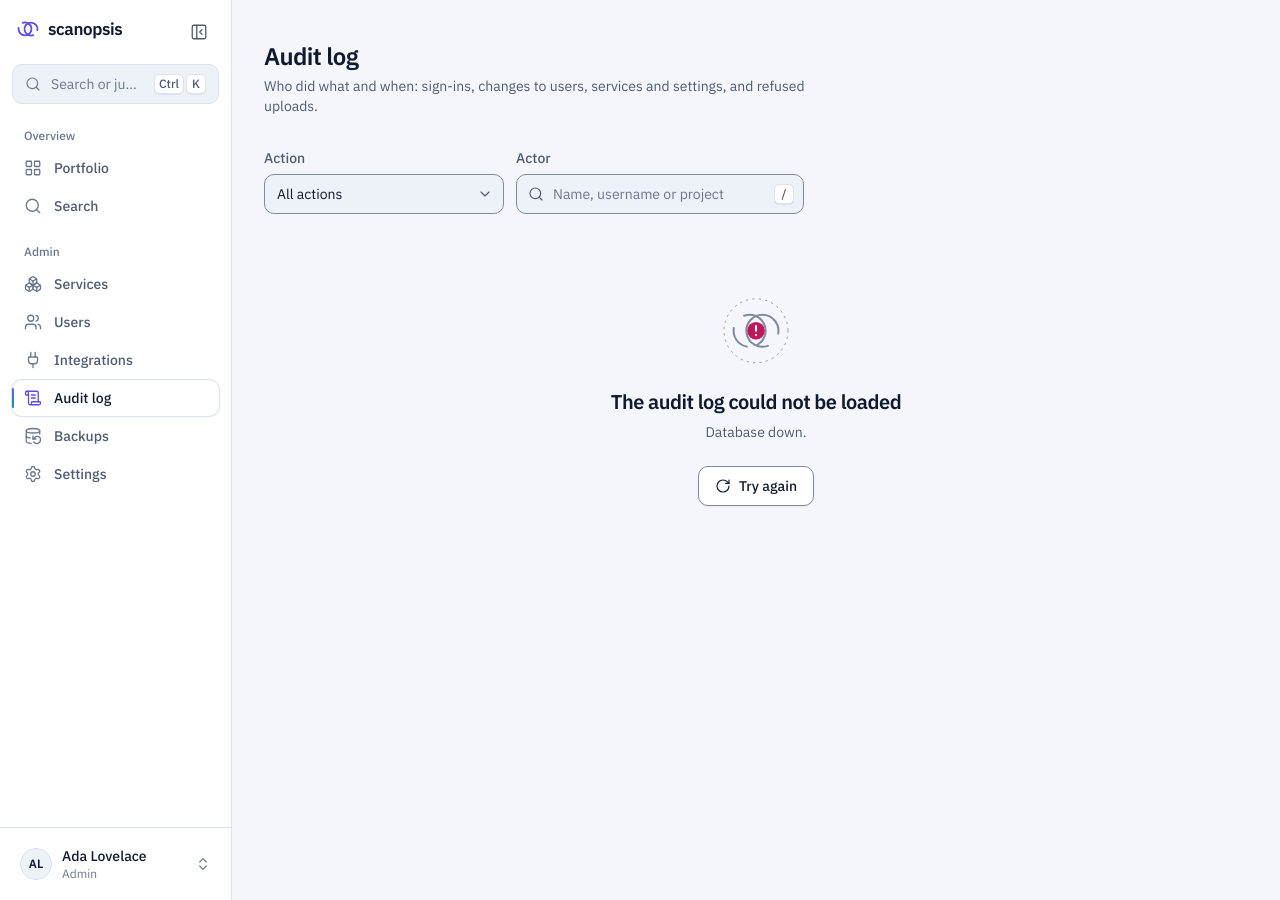
Test case: audit page › shows an error state with retry
Expected: the heading "The audit log could not be loaded" is shown, [611, 388, 901, 416]
Click the button "Try again" at (756, 486), box [698, 466, 814, 506]
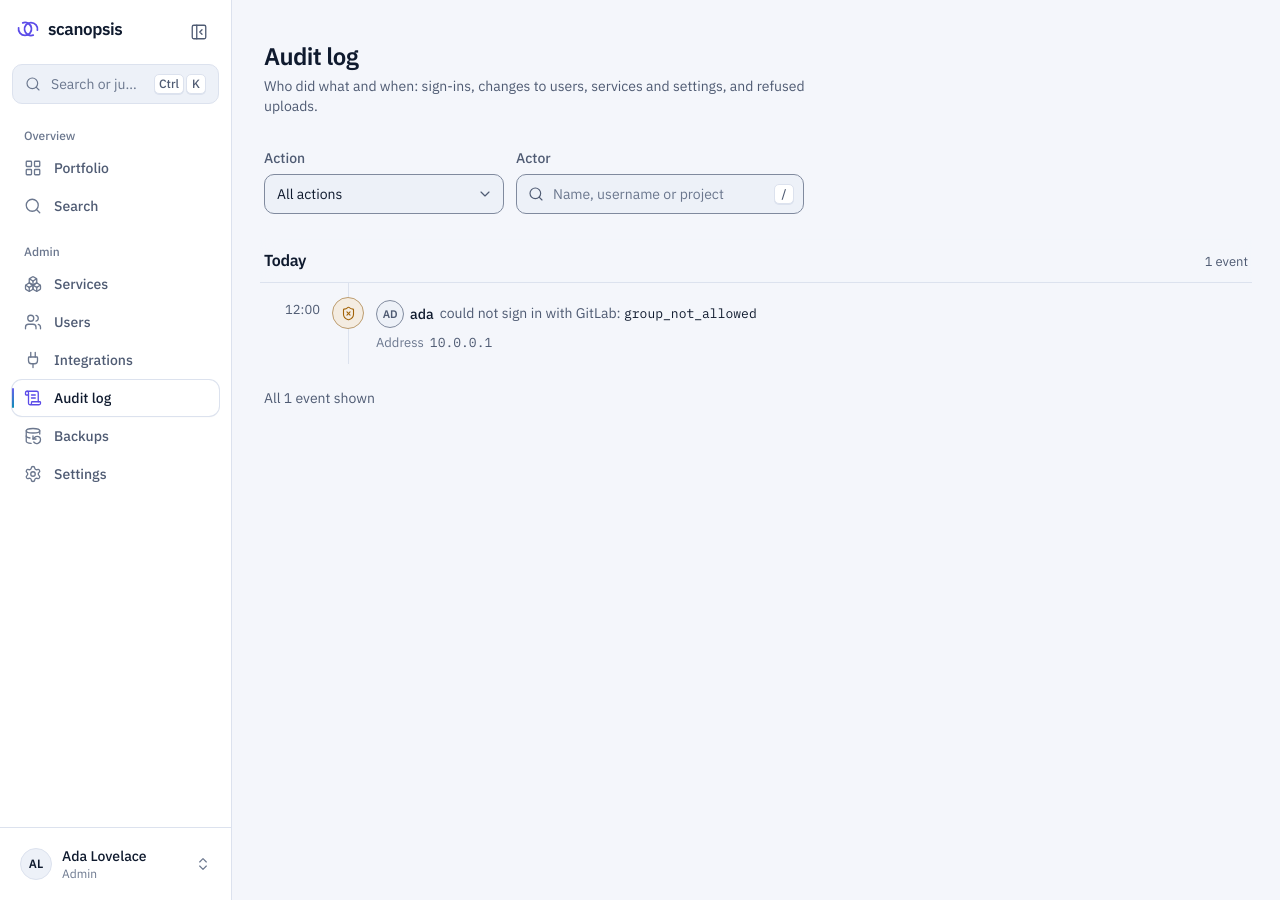
Result: the element that starts with "Today" is shown at [264, 238, 1248, 364]
